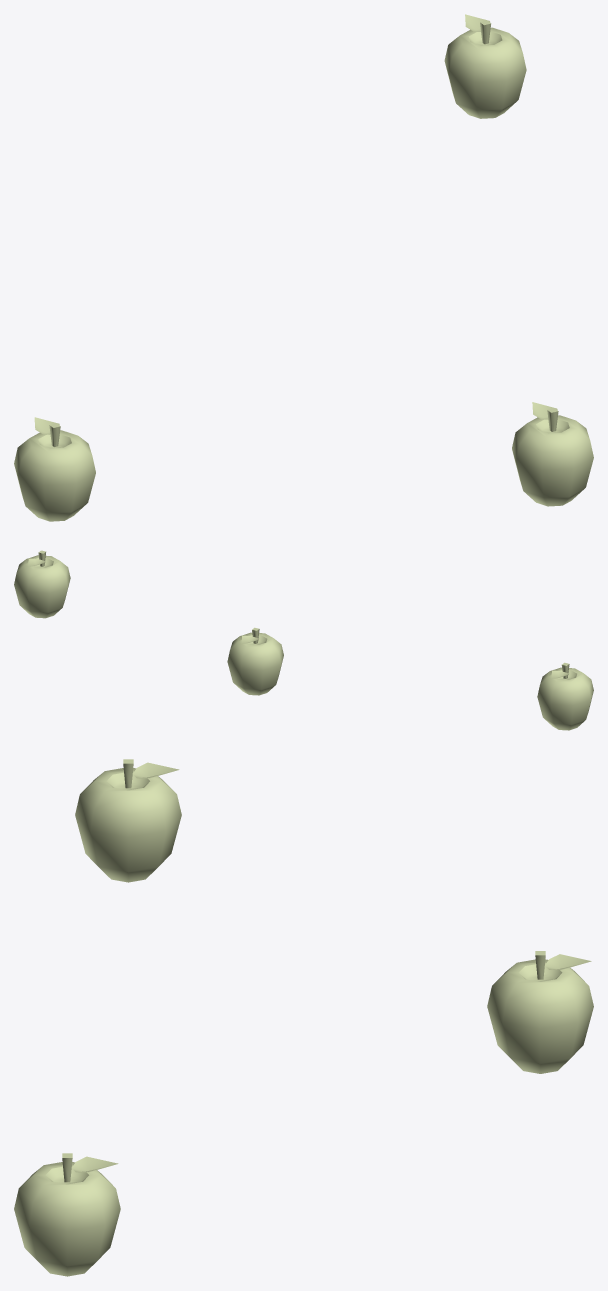
File: crafted-apple-fruits-growing.glb
3 views of the same model, one above another, from view 1: azimuth 30°, elevation 25°; view 2: azimuth 150°, elevation 25°; view 3: azimuth 270°, elevation 25° (orthographic). The views are drawn at different scales.
Visible parts, largest first — view 1: fruit-2, fruit-0, fruit-1; view 2: fruit-1, fruit-0, fruit-2; view 3: fruit-2, fruit-0, fruit-1.
Part boxes in pixels (x1,y1,x2,y2): fruit-2: (444,14,526,118); fruit-0: (14,417,95,521); fruit-1: (512,402,593,506); fruit-1: (227,627,283,695); fruit-0: (537,662,593,730); fruit-2: (14,550,70,618); fruit-2: (487,951,593,1073); fruit-0: (75,759,181,882); fruit-1: (14,1153,120,1276).
Size of the model in its own units: 1.27 by 0.56 by 0.76.
